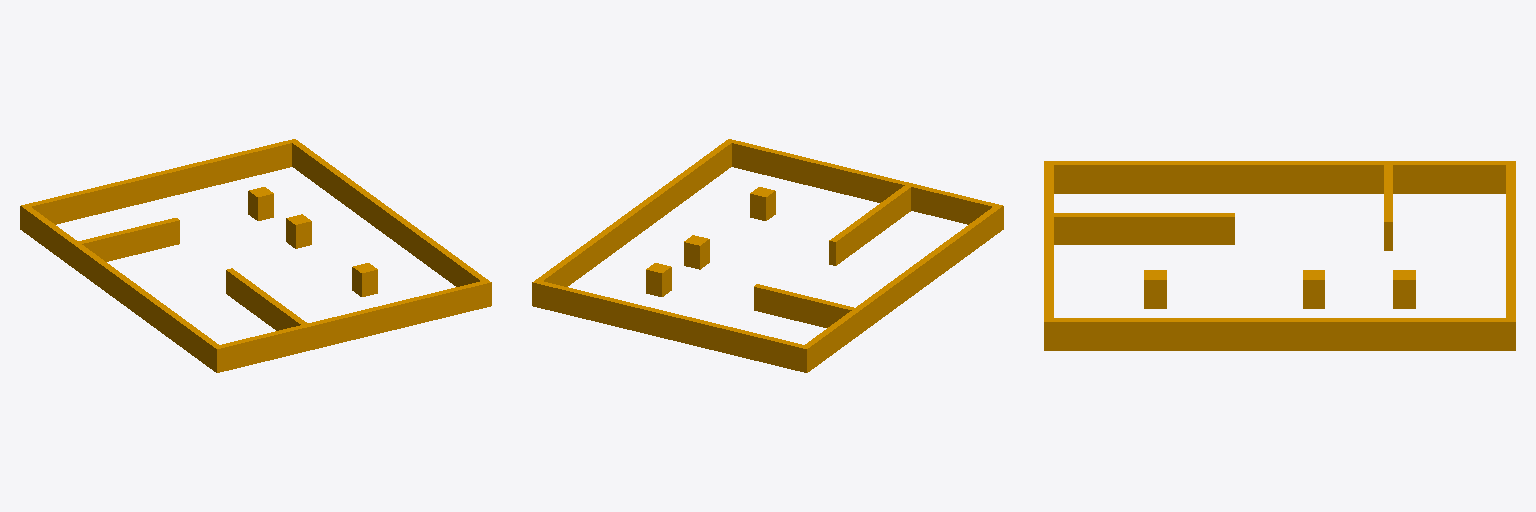
The robot description file, URDF, robot "arena":
<?xml version="1.0"?>

<robot name="arena">
  <link name="wall_1">
    <inertial>
      <origin xyz="0 0 -0.2" rpy="1.570796327 0 0"/> 
      <mass value="100000.0" />
      <inertia  ixx="1.0" ixy="0.0"  ixz="0.0"  iyy="1.0"  iyz="0.0"  izz="1.0" />
    </inertial>
    <visual>
      <origin xyz="0 0 -0.2" rpy="1.570796327 0 0"/>
      <geometry>
        <mesh filename="package://torsten_gazebo_world/models/sim_map/sim_map.stl" scale="0.001 0.001 0.001"/>
      </geometry>
    </visual>
    <collision>
      <origin xyz="0 0 -0.2" rpy="1.570796327 0 0"/>
      <geometry>
        <mesh filename="package://torsten_gazebo_world/models/sim_map/sim_map.stl" scale="0.001 0.001 0.001"/>
      </geometry>
    </collision>
  </link>
  <gazebo>
    <static>true</static>
  </gazebo>
</robot>

--- Render facts (derived) ---
3 views of the same robot in one strip: view 1: azimuth 30°, elevation 25°; view 2: azimuth 150°, elevation 25°; view 3: azimuth 270°, elevation 25° (orthographic).
Model arena with 1 links and 0 joints (none), rooted at wall_1, posed every joint at zero.
Links seen in each view (by area): view 1: wall_1; view 2: wall_1; view 3: wall_1.
Boxes of the visible links, <box> form: wall_1: <box>20,139,491,372</box>; wall_1: <box>532,139,1003,372</box>; wall_1: <box>1044,161,1515,350</box>.
Bounding box of the posed robot: 8.4 × 10.4 × 0.7 m (x, y, z).
Meshes: 1 distinct files referenced, 1 mesh visuals loaded (1 binary STL).
